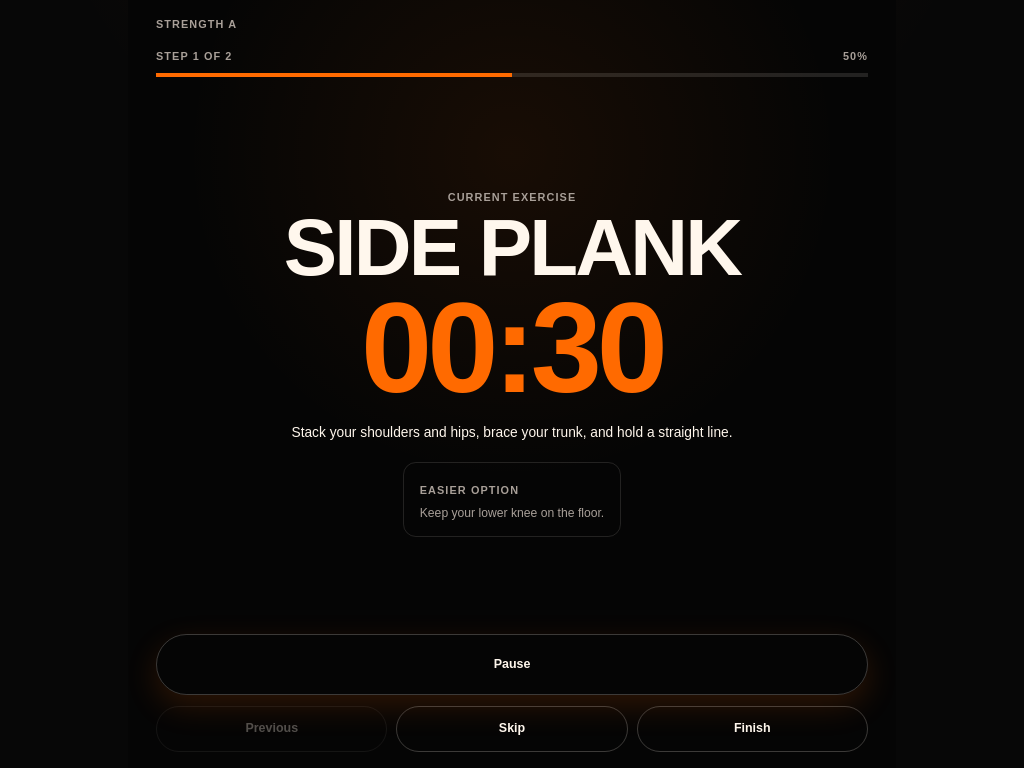
it: StrengthPage › resumes the timer and exposes the easier exercise variation
Click the button "Pause".
click(512, 665)  # box [156, 634, 868, 695]
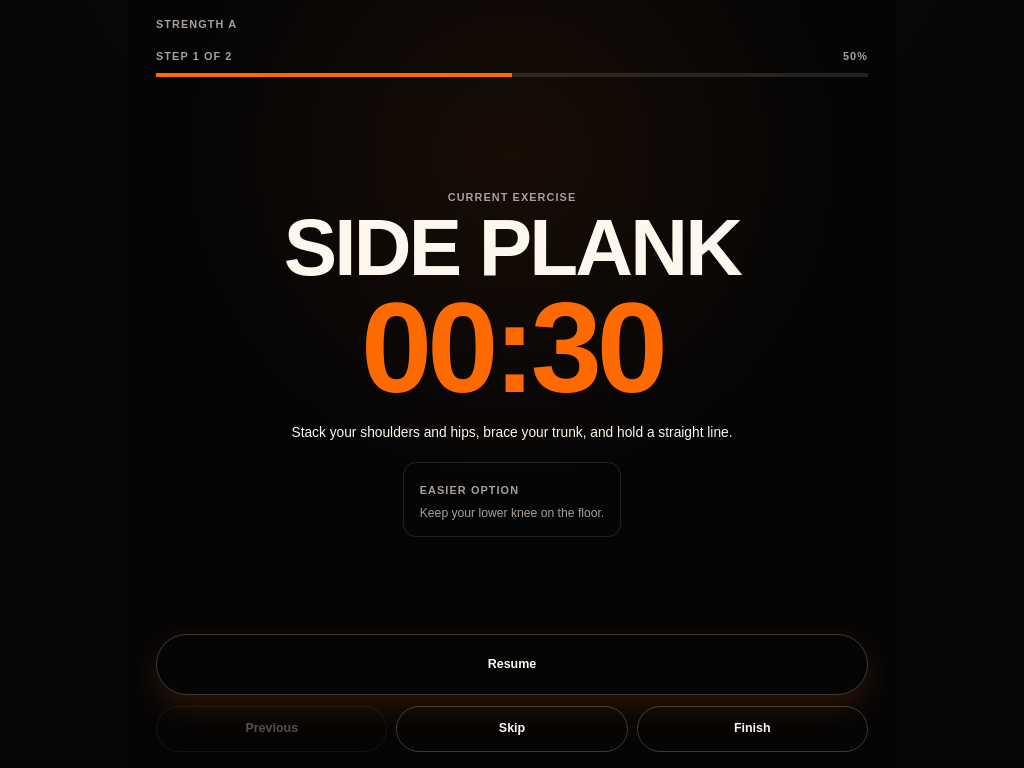
Click the button "Resume".
click(512, 665)  # box [156, 634, 868, 695]
Wait 1000 ms
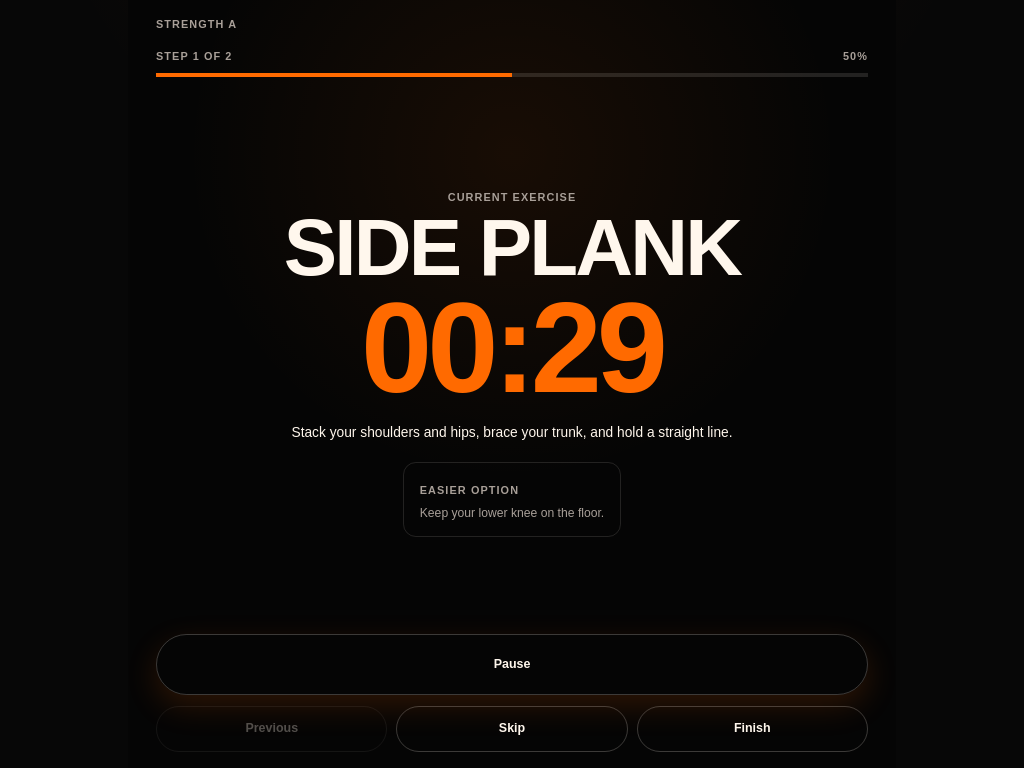
Expected: the text "Keep your lower knee on the floor." is shown, [420, 505, 604, 523]
Now the text "00:29" is shown, box [361, 298, 663, 398]
